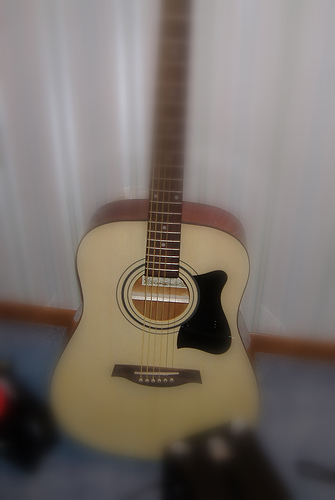guitar: (46, 1, 262, 461)
